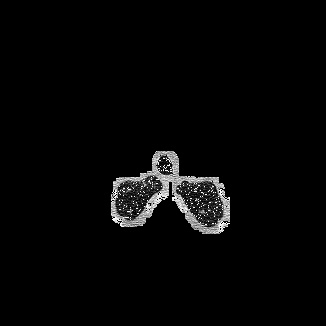PN: (200, 209, 204, 213)
